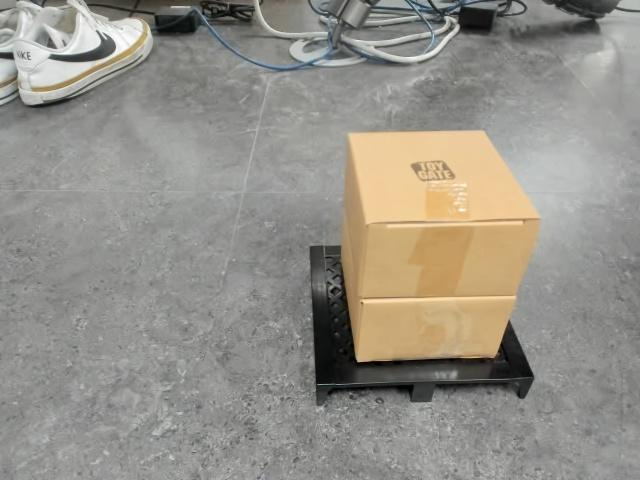box: (309, 128, 541, 402)
